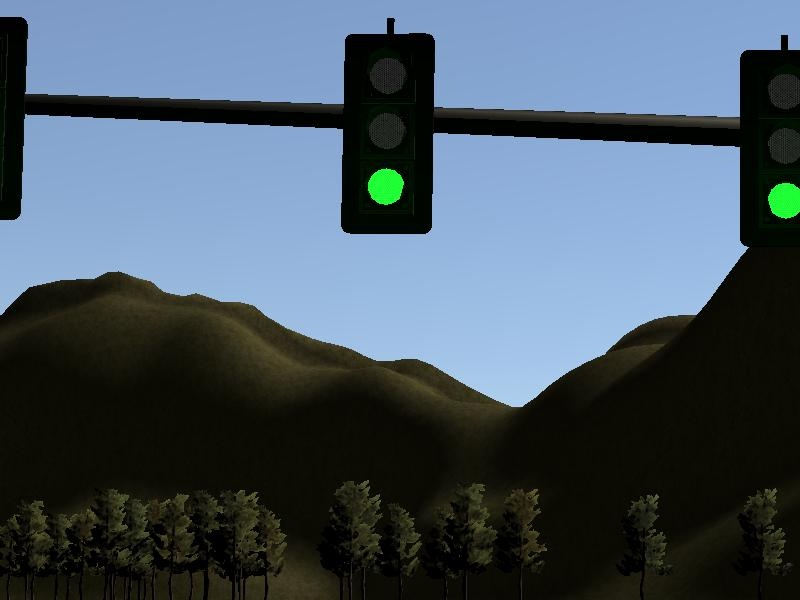GREEN: (339, 30, 440, 237)
